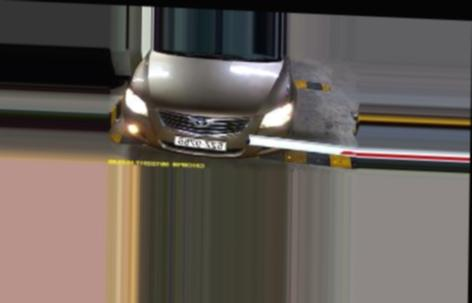License_Plate: (170, 133, 228, 155)
